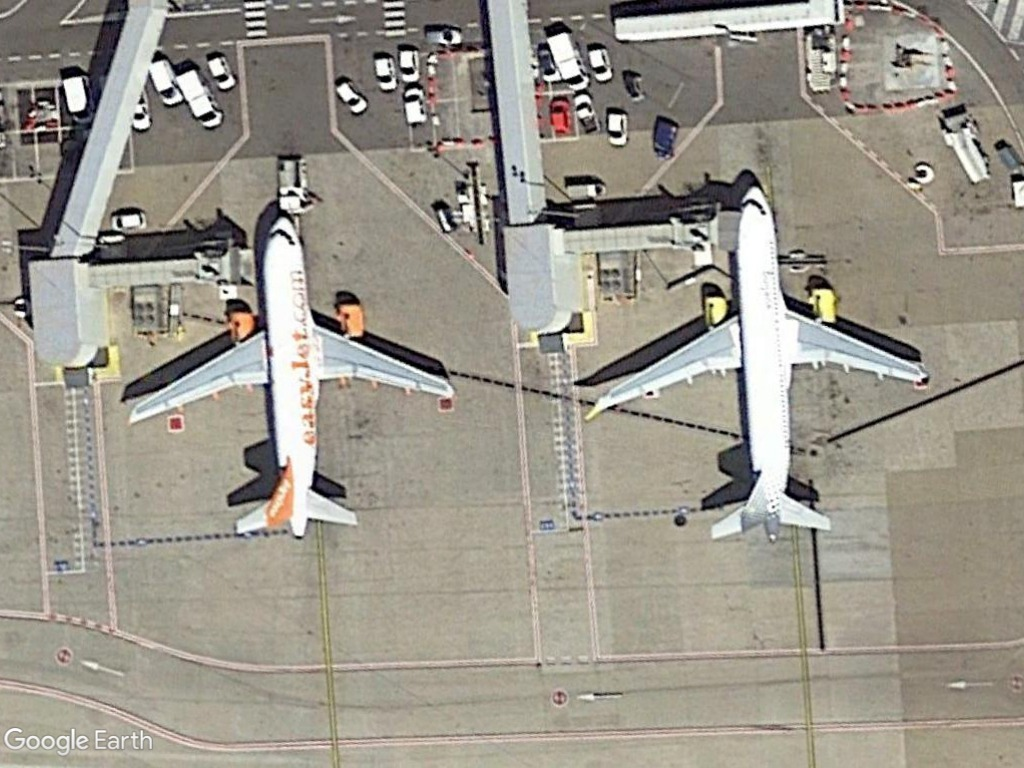airliner: (584, 170, 931, 557), (123, 195, 456, 552)
car: (419, 23, 467, 50), (105, 208, 154, 233)
stairtruck: (933, 106, 993, 186)
van: (173, 60, 224, 132), (543, 28, 592, 95), (55, 70, 97, 130), (143, 52, 183, 113), (330, 77, 369, 117), (202, 51, 238, 94), (583, 43, 617, 86), (400, 83, 430, 129), (368, 51, 398, 96), (395, 44, 422, 86), (604, 110, 631, 149)
